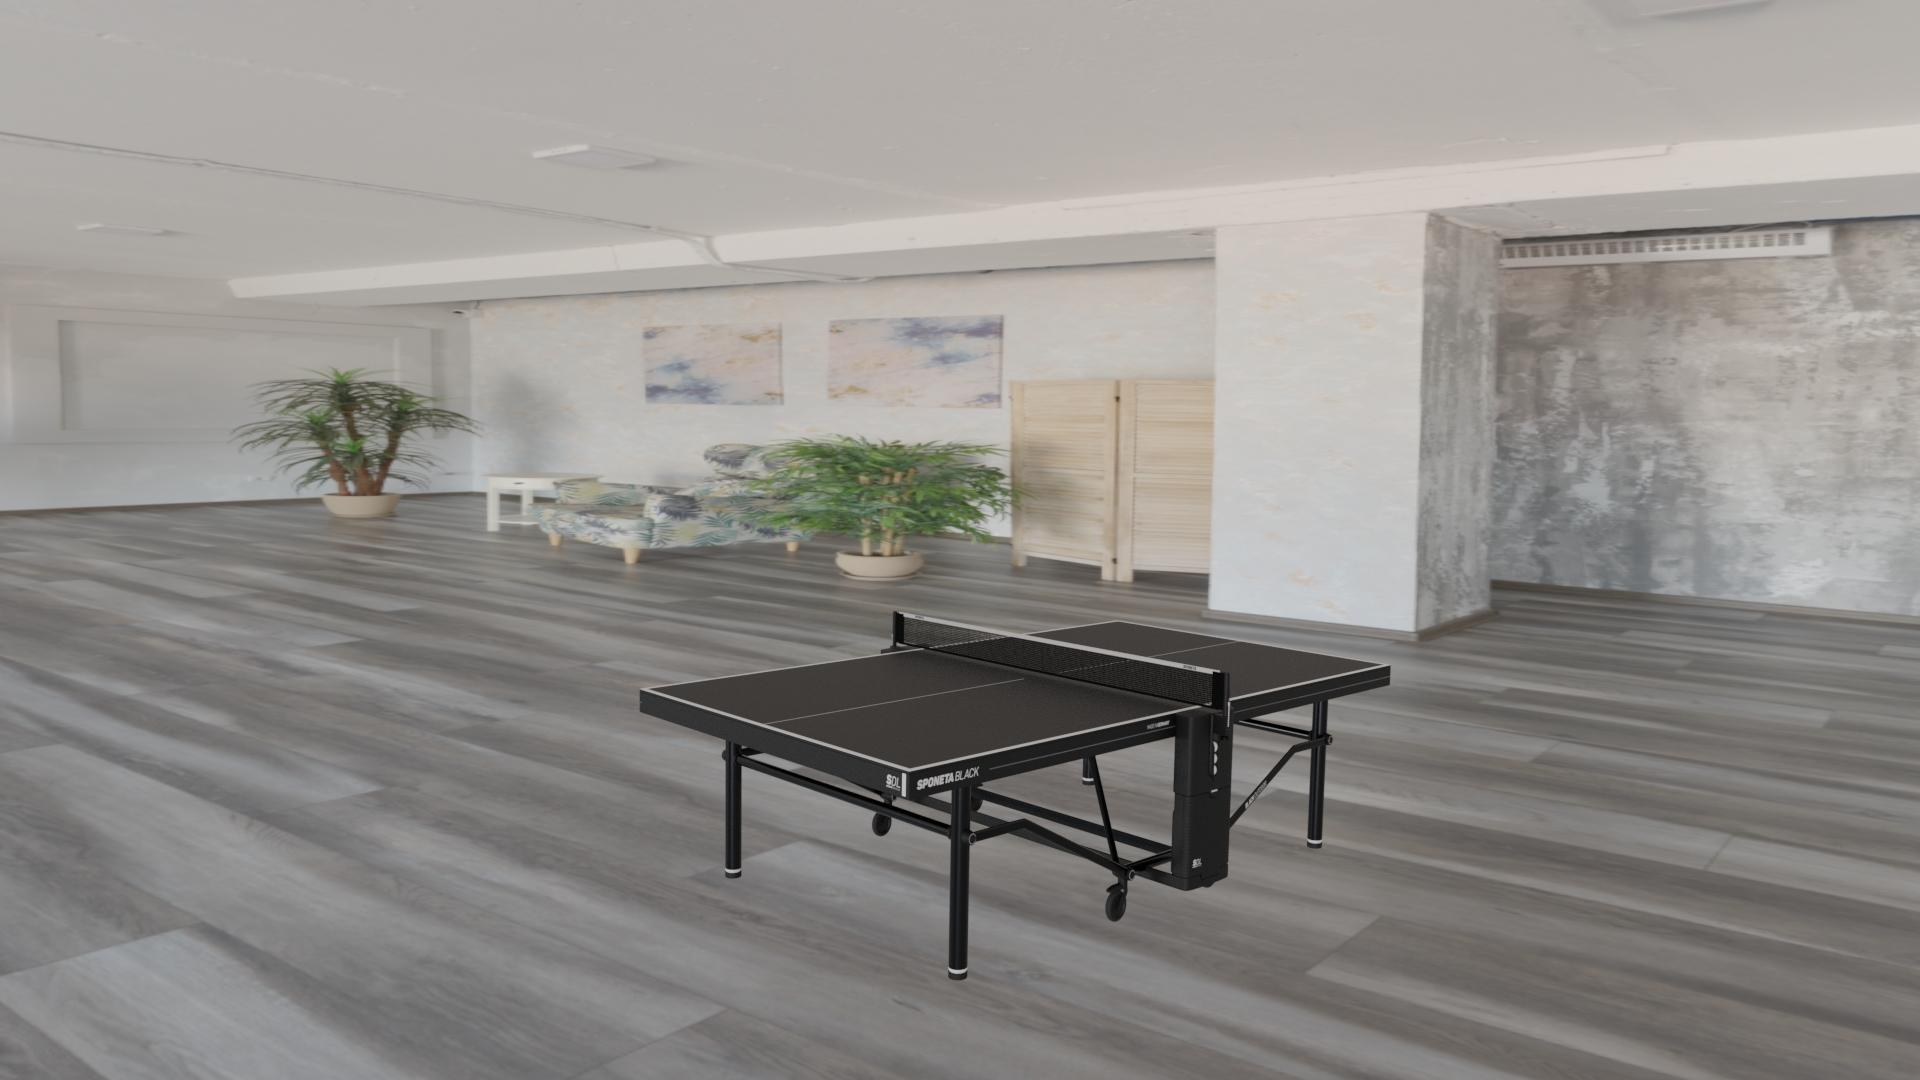table: (647, 621, 1385, 769)
